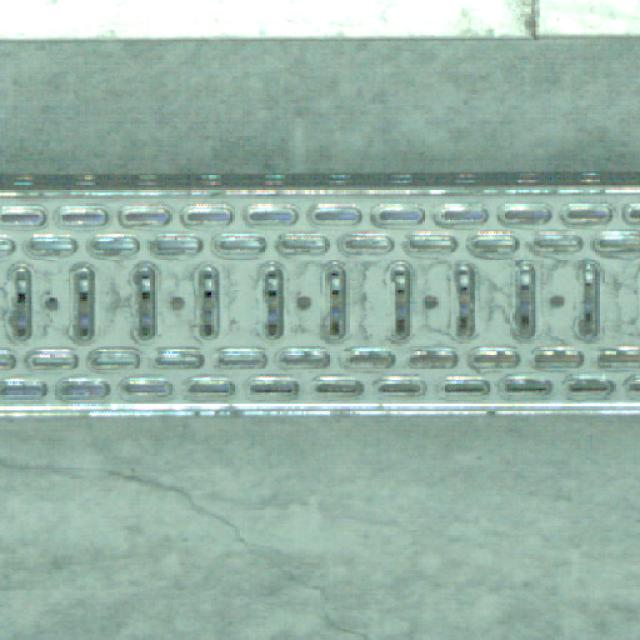Diagonal: (0, 445, 429, 640)
